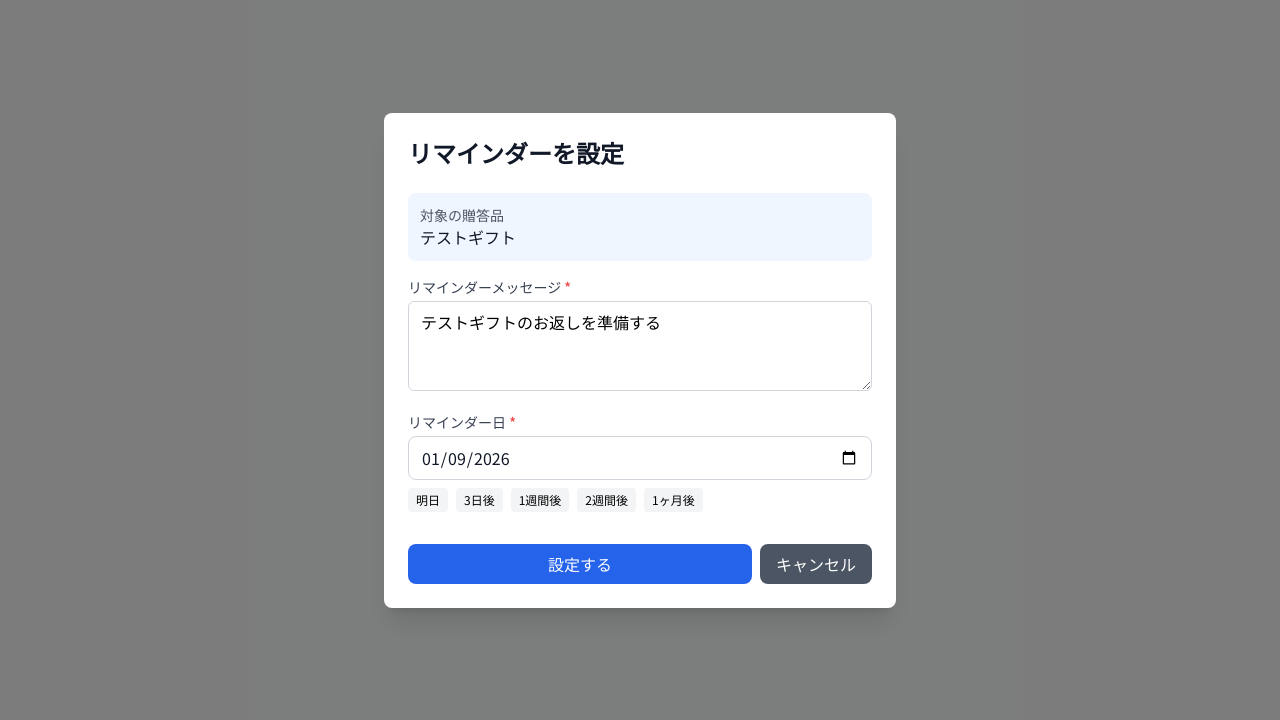
ReminderForm › 保存中は入力が無効になる
The image size is (1280, 720).
Click the button "設定する": (580, 564) 408,544 -> 752,584
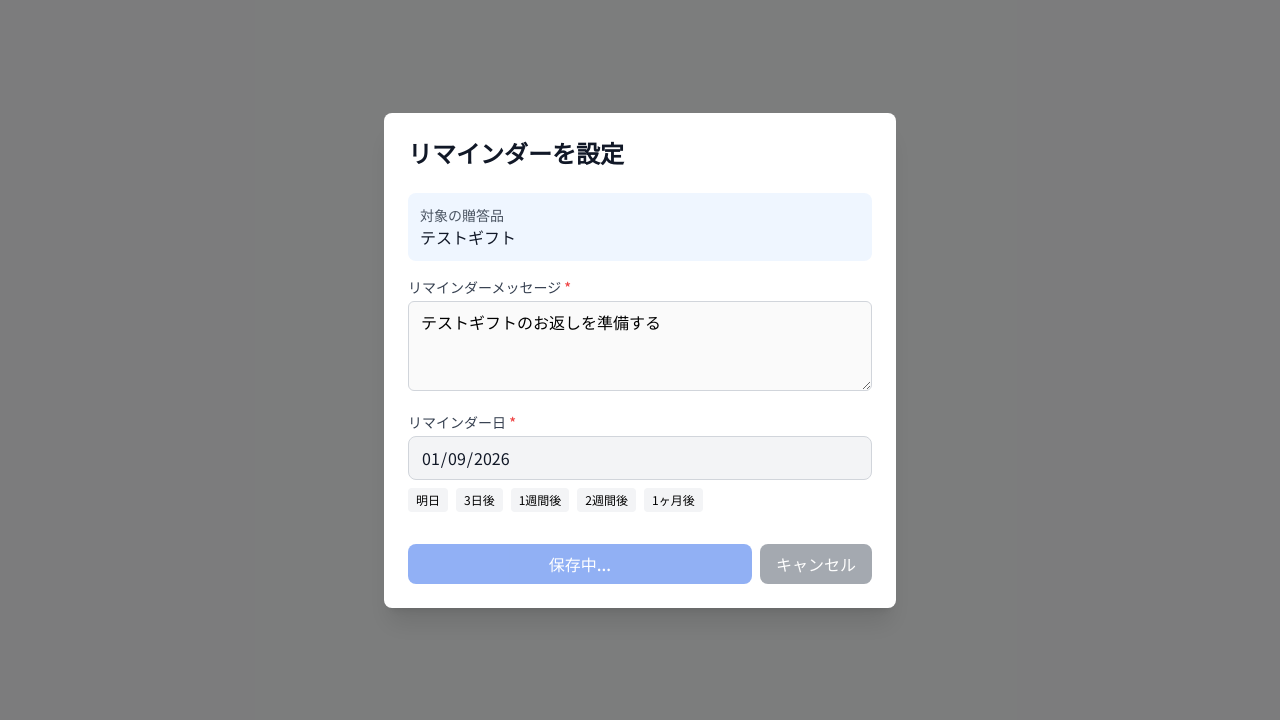
Now the button "保存中..." is shown, box 408,544 -> 752,584
